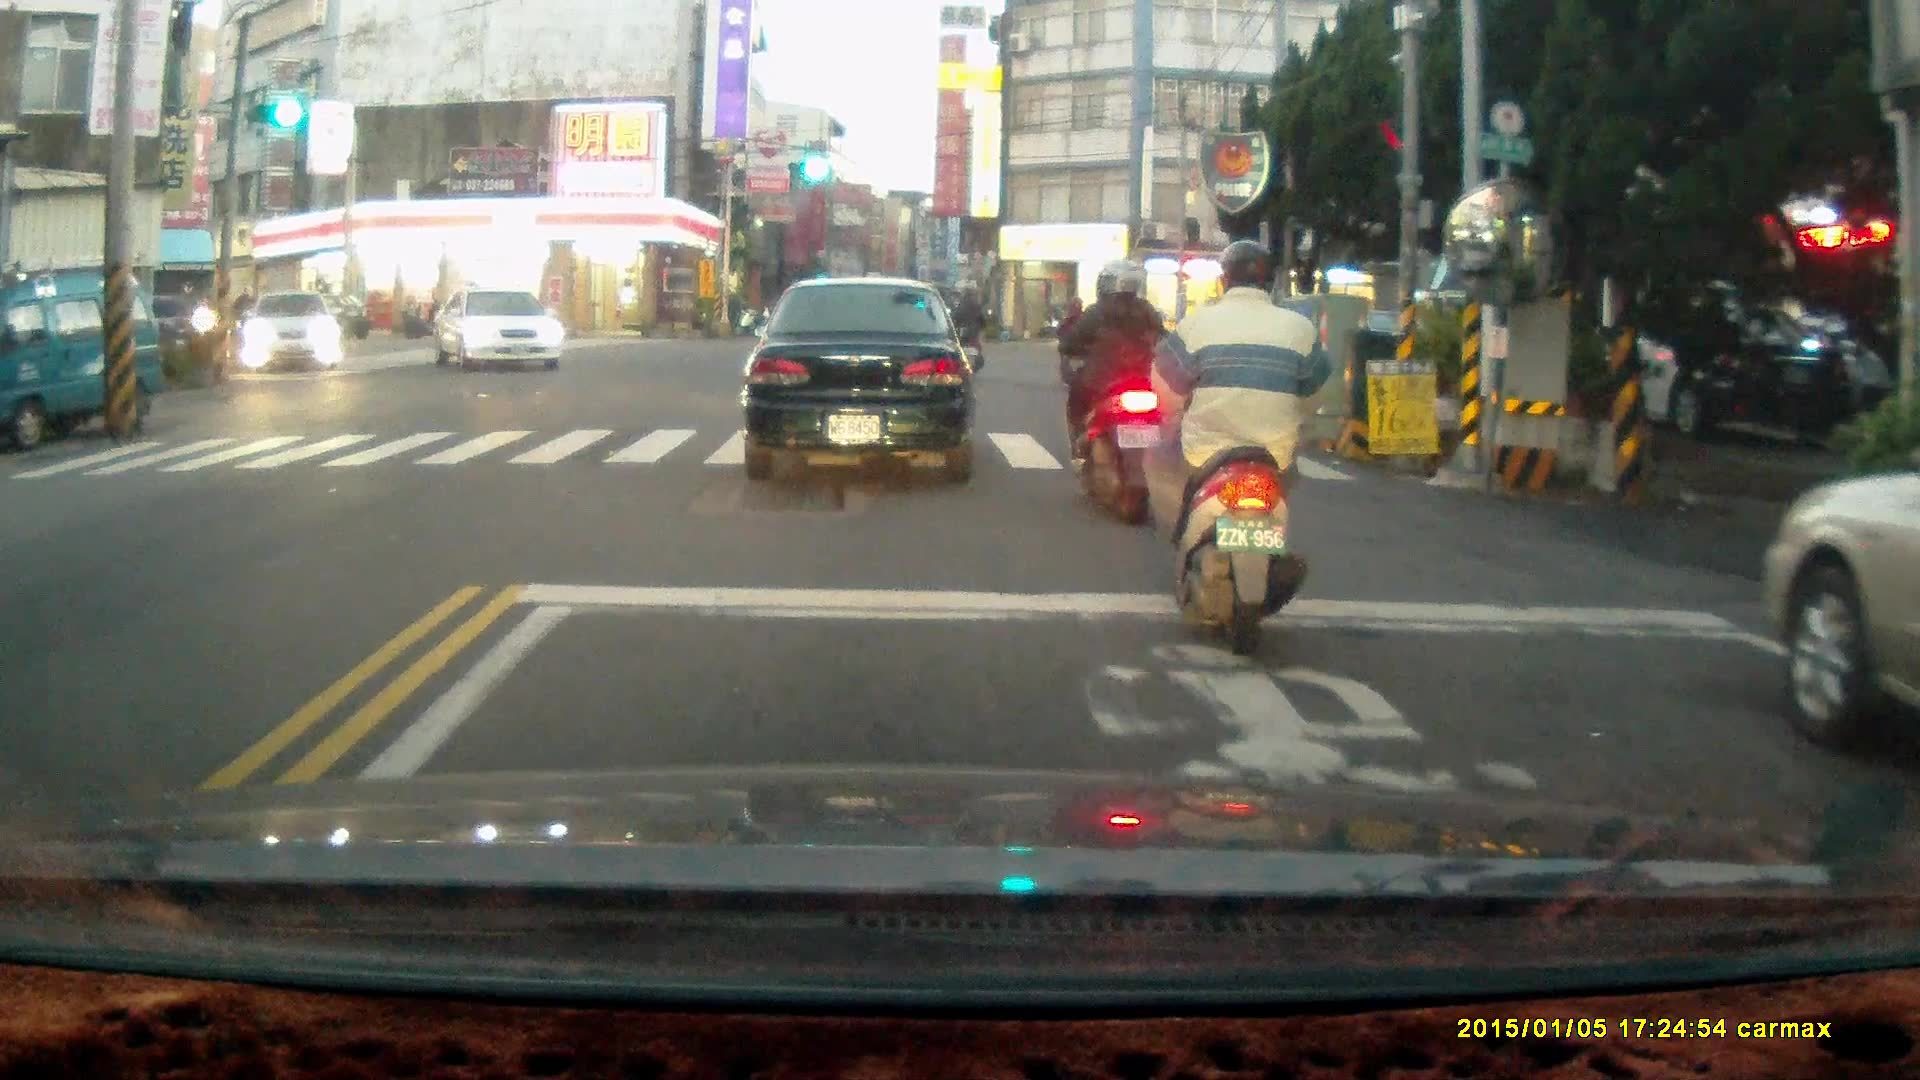rider: (1141, 234, 1338, 644), (1041, 255, 1177, 523), (943, 287, 992, 379)
vehicle: (741, 276, 976, 482), (1541, 276, 1855, 430), (1756, 467, 1920, 756), (1, 267, 168, 456), (432, 288, 567, 373), (238, 292, 347, 376)
